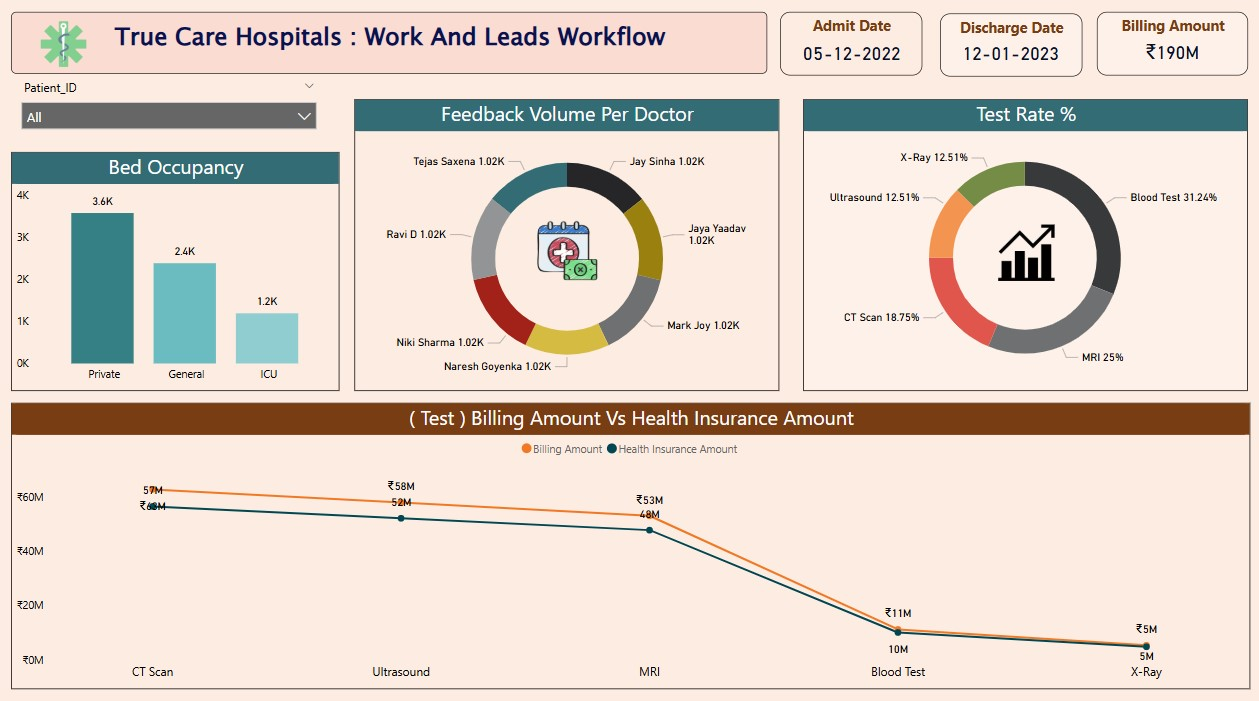

The page's visual inventory and layout, read from the dashboard file:
{"tool":"powerbi","page":{"name":"Page 1","canvas":[1280,720],"ordinal":0},"visuals":[{"type":"textbox","box":[12.9,14.7,763.9,62.6],"z":0},{"type":"slicer","fields":{"Values":["Sheet1.Patient_ID"]},"box":[12.9,79.1,318.4,60.7],"z":1000},{"type":"card","title":"Admit Date","fields":{"Values":["Sheet1.Admit_Date"]},"box":[789.6,14.7,143.6,64.4],"z":2000},{"type":"card","title":"Discharge Date","fields":{"Values":["Sheet1.Discharge_Date"]},"box":[951.7,16.7,143.3,63.3],"z":3000},{"type":"card","title":"Billing Amount","fields":{"Values":["Sheet1.Billing Amount"]},"box":[1109.9,14.7,152.8,64.4],"z":4000},{"type":"columnChart","title":"Bed Occupancy","fields":{"Category":["Sheet1.Bed_Occupancy"],"Y":["Sheet1.Bed_Occupancy"]},"box":[12.9,156.5,331.3,241.1],"z":5000},{"type":"donutChart","title":"Feedback Volume Per Doctor","fields":{"Category":["Sheet1.Doctor"],"Y":["Sheet1.Doctor"]},"box":[360.8,103.1,428.9,294.5],"z":6000},{"type":"lineChart","title":"( Test ) Billing Amount Vs Health Insurance Amount","fields":{"Y":["Sheet1.Billing Amount","Sheet1.Health Insurance Amount"],"Category":["Data.Test"]},"box":[12.9,410.5,1251.6,289],"z":7000},{"type":"image","box":[540.2,215.7,70.2,82.4],"z":8000},{"type":"donutChart","title":"Test Rate %","fields":{"Category":["Data.Test"],"Y":["Data.Test"]},"box":[813.6,103.1,449.1,294.5],"z":9000},{"type":"image","box":[999.7,224.5,77.2,66.6],"z":10000},{"type":"image","box":[37.9,16.2,55.9,61.3],"z":11000}]}

Visuals, with their boxes in screenshot pixels (x1, y1, x2, y2), scaled from the page's 1280x720 canvas onto the 1259x701 screenshot:
textbox: <box>13,14,764,75</box>
slicer - Sheet1.Patient_ID: <box>13,77,326,136</box>
"Admit Date" card: <box>777,14,918,77</box>
"Discharge Date" card: <box>936,16,1077,78</box>
"Billing Amount" card: <box>1092,14,1242,77</box>
"Bed Occupancy" columnChart: <box>13,152,339,387</box>
"Feedback Volume Per Doctor" donutChart: <box>355,100,777,387</box>
"( Test ) Billing Amount Vs Health Insurance Amount" lineChart: <box>13,400,1244,681</box>
image: <box>531,210,600,290</box>
"Test Rate %" donutChart: <box>800,100,1242,387</box>
image: <box>983,219,1059,283</box>
image: <box>37,16,92,75</box>
